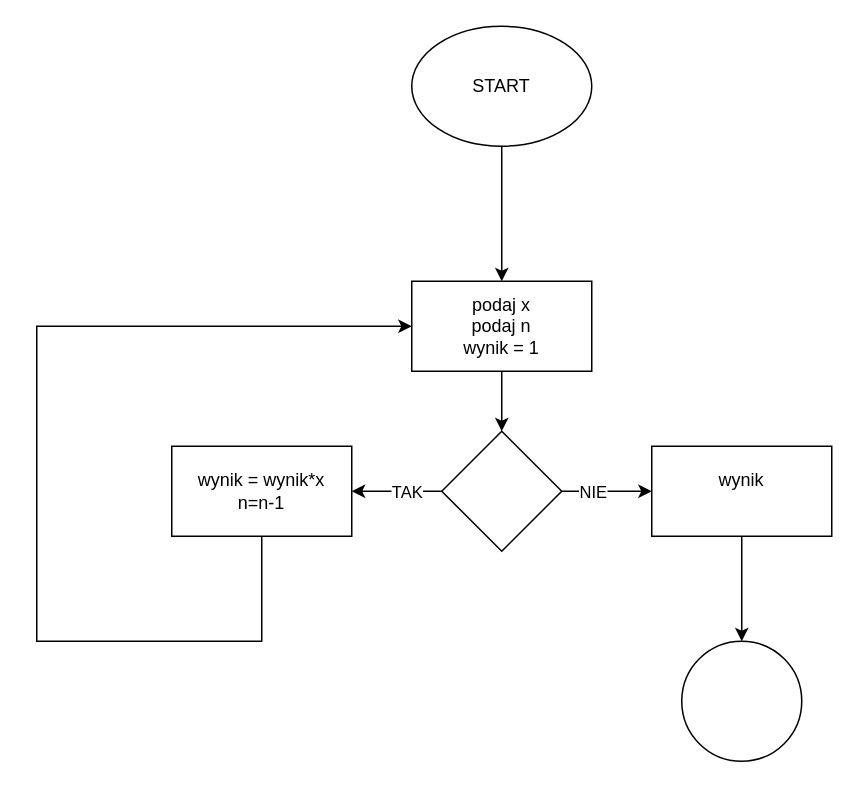
Image size: 858x788. Some labels were removed from this diagram. Here are the shapes that lost their labels. From the top down, the centre of each, then its label:
At (501,490): "n>0".
At (741,700): "STOP".
